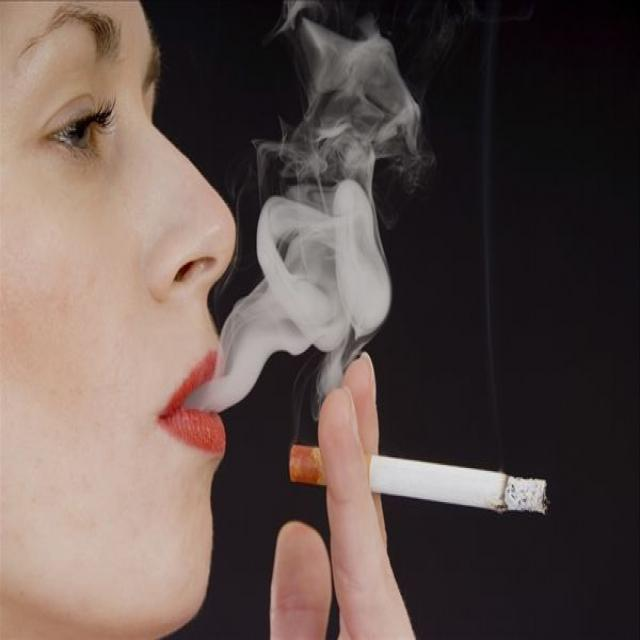smoking: (284, 445, 549, 516)
